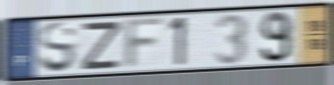1: (167, 15, 189, 69)
3: (214, 10, 251, 68)
9: (259, 9, 294, 65)
F: (122, 15, 169, 72)
S: (37, 20, 79, 76)
Z: (79, 19, 124, 72)
